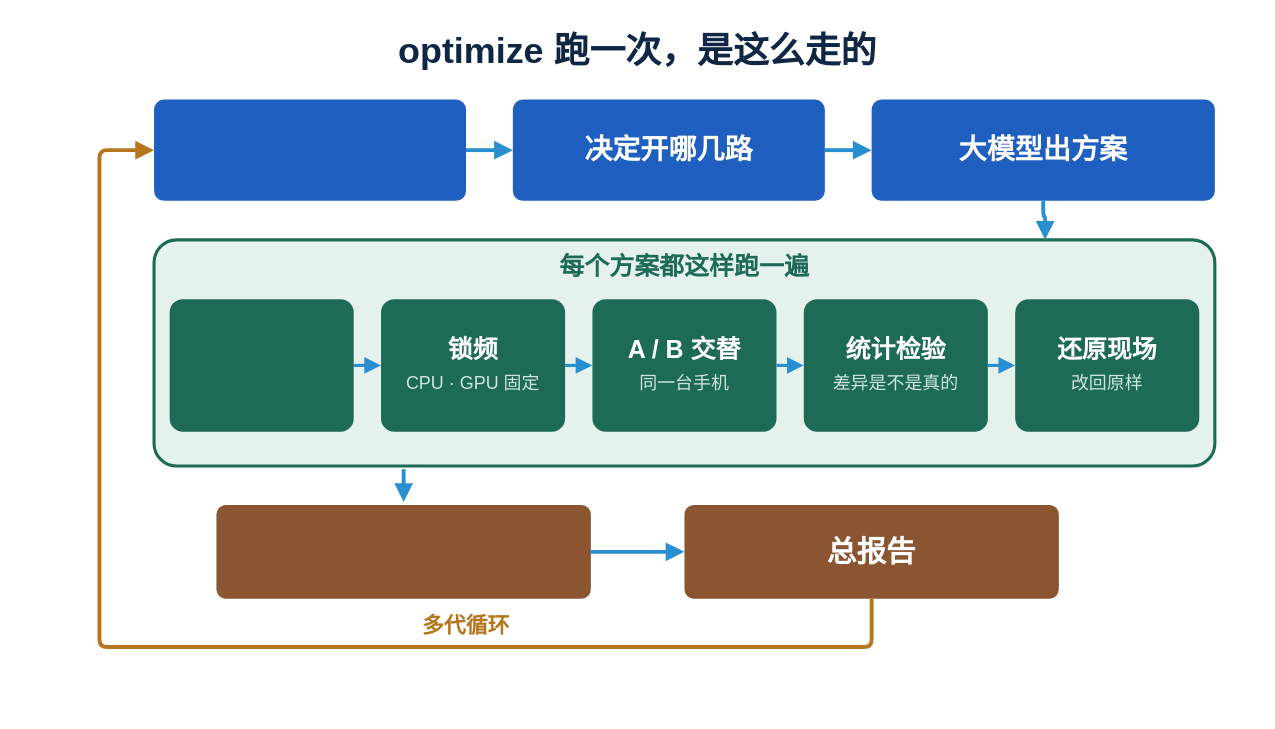
Some shapes in this 1275 by 729 pixel diagram are drawn without their labels. Each missing label, with the box of its shape:
优胜档案: (216, 505, 590, 598)
摸底 只读，不改机器: (154, 99, 466, 200)
等冷 温度回到基线: (169, 299, 353, 431)
